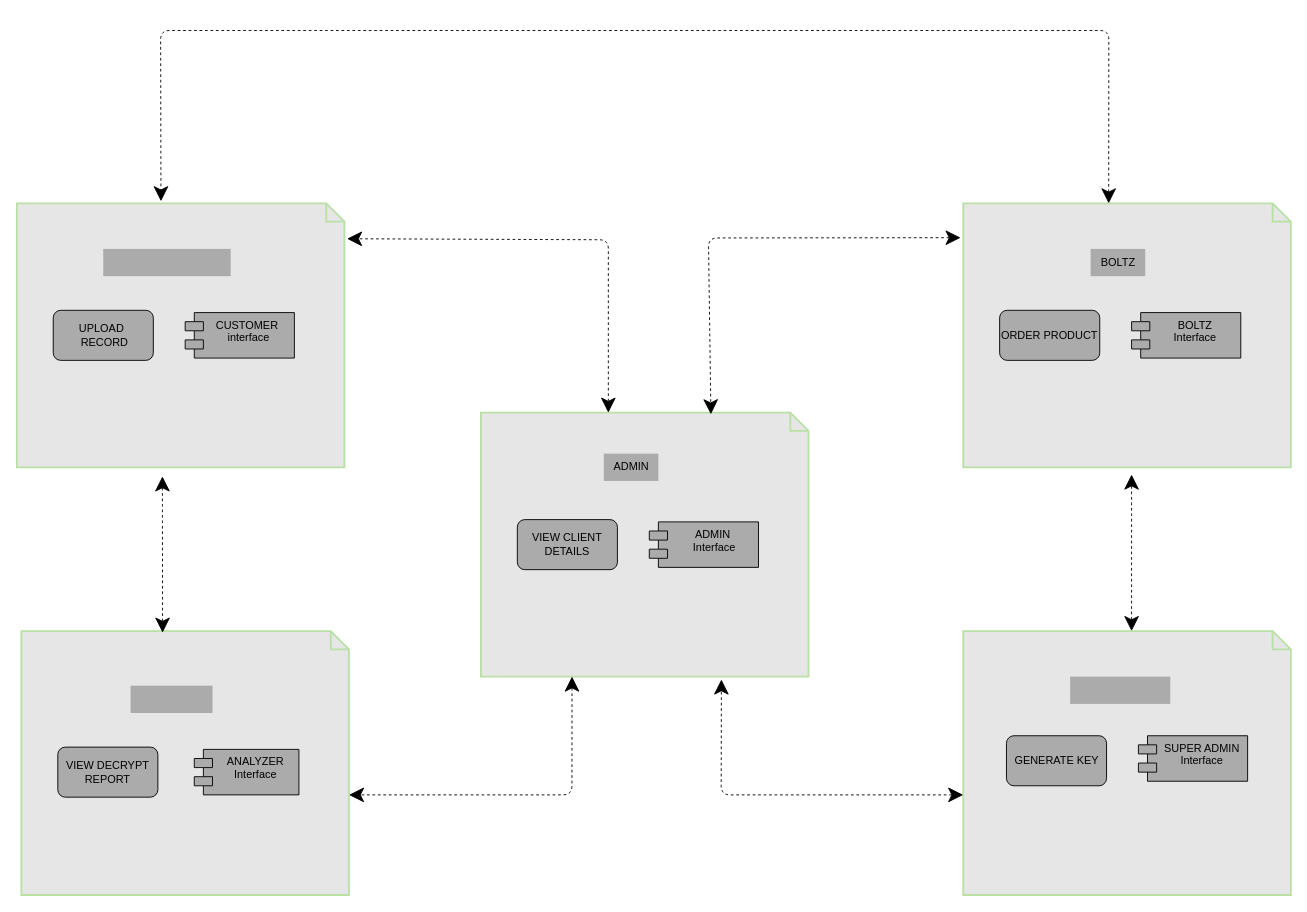
The diagram is 1307 pixels wide and 912 high, and some of its shapes have lost their labels. Each missing label, with the box of its shape:
ANALYZER: (130, 685, 212, 713)
CUSTOMER ORDER: (103, 248, 230, 276)
SUPER ADMIN: (1070, 676, 1170, 703)
